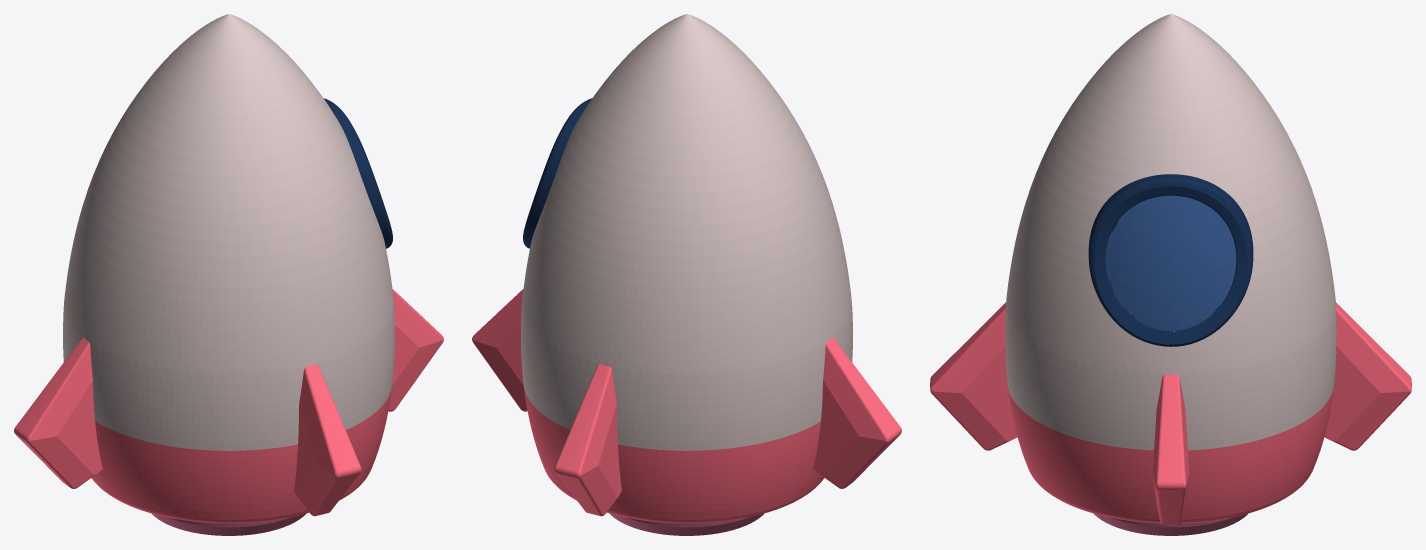
File: rocket.glb
3 renders of one model, left to right at view 1: azimuth 30°, elevation 25°; view 2: azimuth 150°, elevation 25°; view 3: azimuth 270°, elevation 25°, orthographic.
Parts seen in each view (by area): view 1: exploreHacksRocket v1; view 2: exploreHacksRocket v1; view 3: exploreHacksRocket v1.
Part boxes in pixels (x1,y1,x2,y2): exploreHacksRocket v1: (14,14,443,535); exploreHacksRocket v1: (472,14,901,535); exploreHacksRocket v1: (930,14,1411,535).
Bounding box in the file's own units: 7.74 × 8.62 × 7.74.
